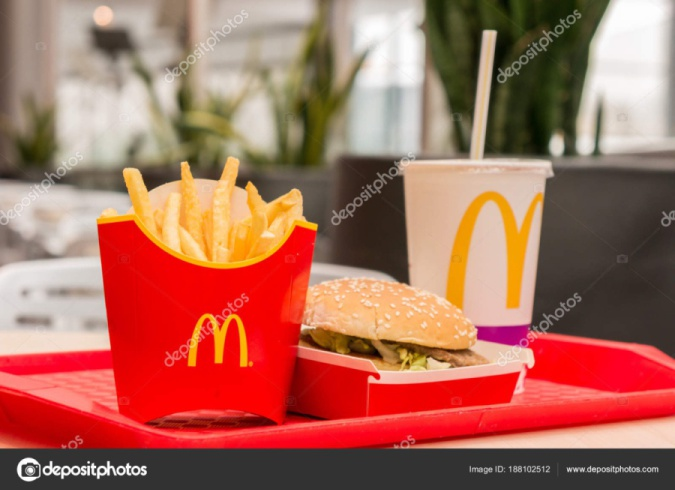mcdonalds: (184, 303, 254, 373)
